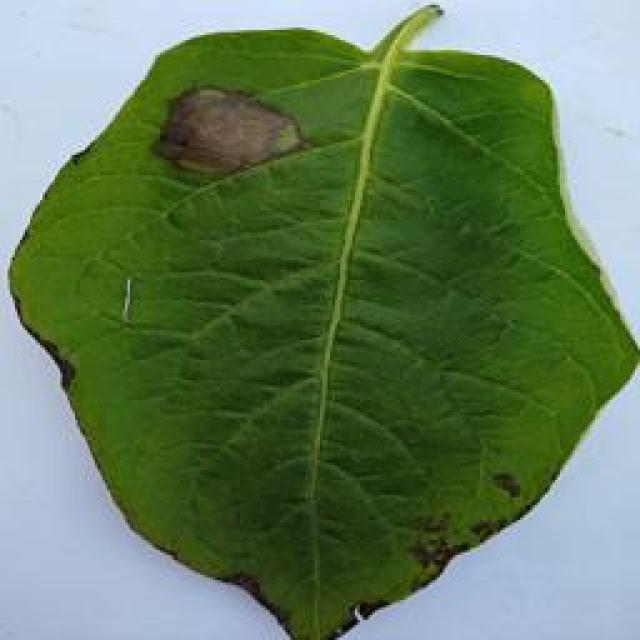Potato_Late_Blight: (8, 13, 627, 638)
